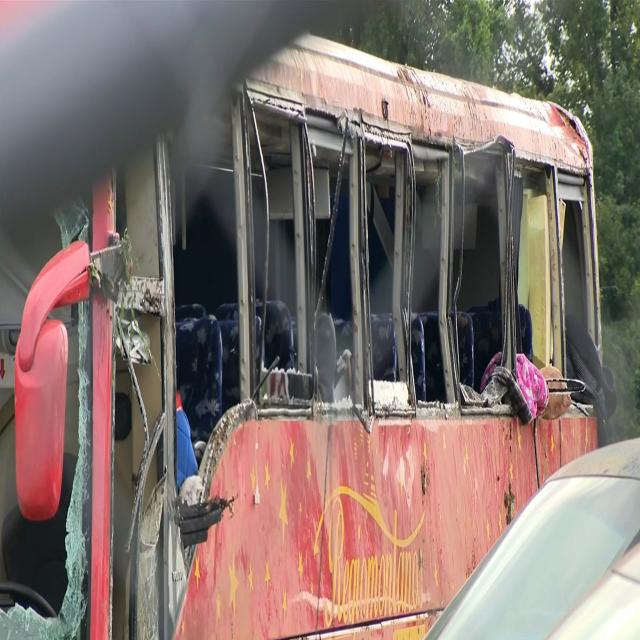Accident: (1, 2, 606, 640)
